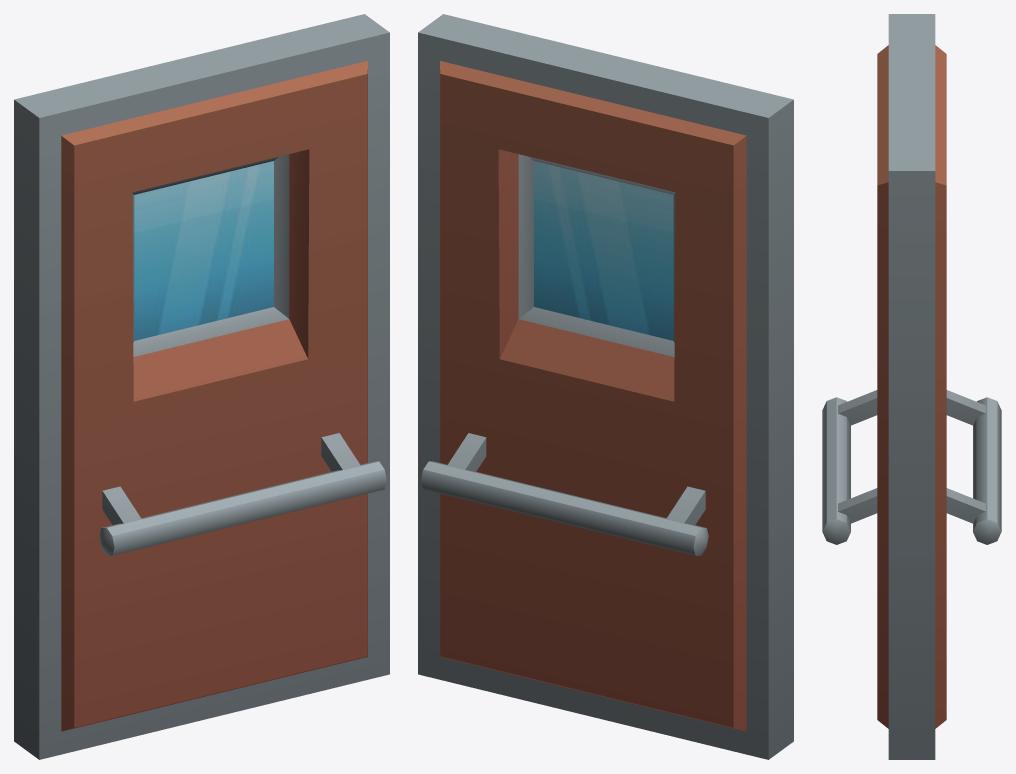
Rendered from door.glb.
3 views of the same model, side by side, from view 1: azimuth 30°, elevation 25°; view 2: azimuth 150°, elevation 25°; view 3: azimuth 270°, elevation 25° (orthographic). The views are drawn at different scales.
Parts seen in each view (by area): view 1: door; view 2: door; view 3: door.
Boxes of the visible parts, <box> form: door: <box>14,14,389,759</box>; door: <box>418,14,793,759</box>; door: <box>822,14,1001,759</box>.
Bounding box in the file's own units: 3.68 × 6.45 × 1.78.
1 material, 1 textured.
